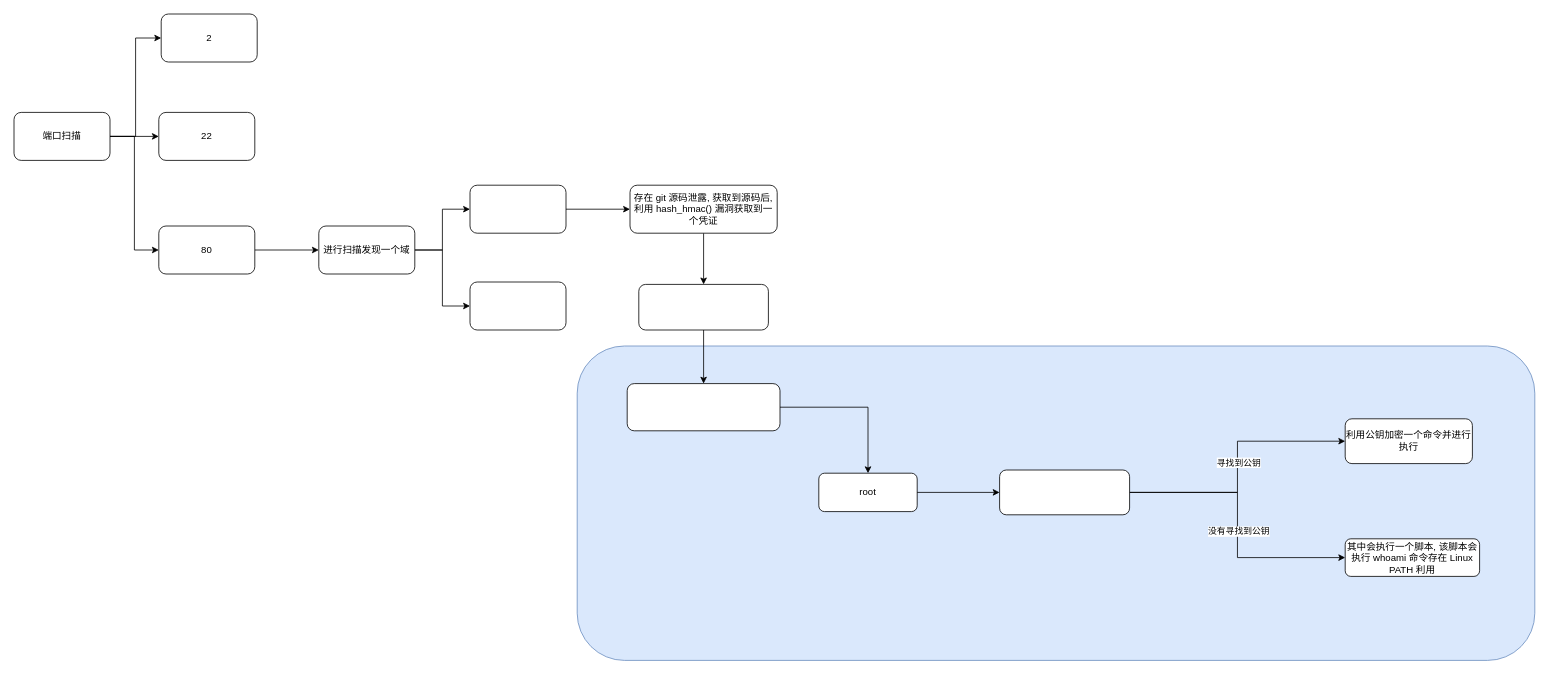
The diagram is 1549 pixels wide and 674 high, and some of its shapes have lost their labels. The centre of each missing label's shape, as x and y in pixels:
pwd.harder.local: the point at 517,208
shell.harder.local: the point at 517,305
利用命令执行漏洞我们可以找到 evs 用户的 SSH 密码, 可以借此完成登陆: the point at 703,407
利用得到的凭证进行登陆,发现命令执行漏洞: the point at 703,307
发现一个特殊的 SUID 程序: the point at 1064,492
